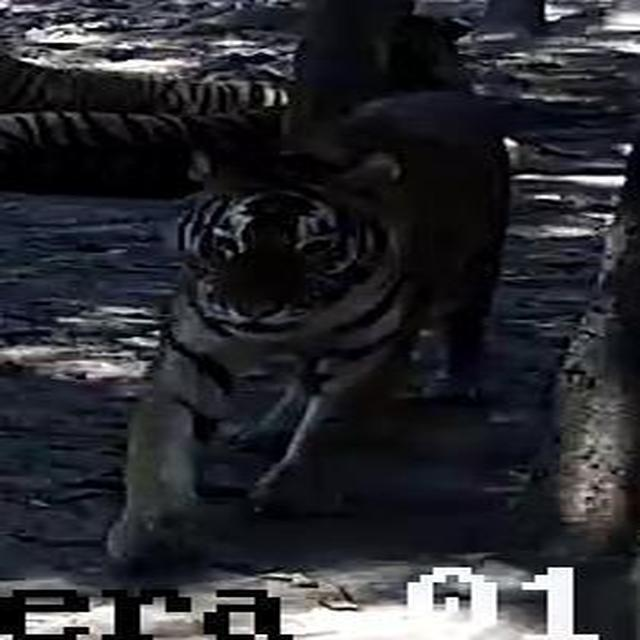tiger: (102, 87, 518, 570), (0, 43, 293, 121)
